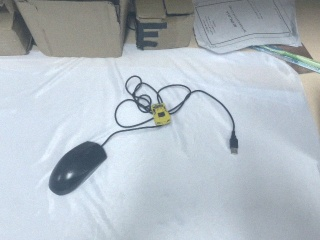box: (10, 1, 129, 61), (130, 1, 196, 53), (1, 2, 34, 57)
mouse: (48, 140, 108, 196)
toy_car: (152, 104, 171, 126)
